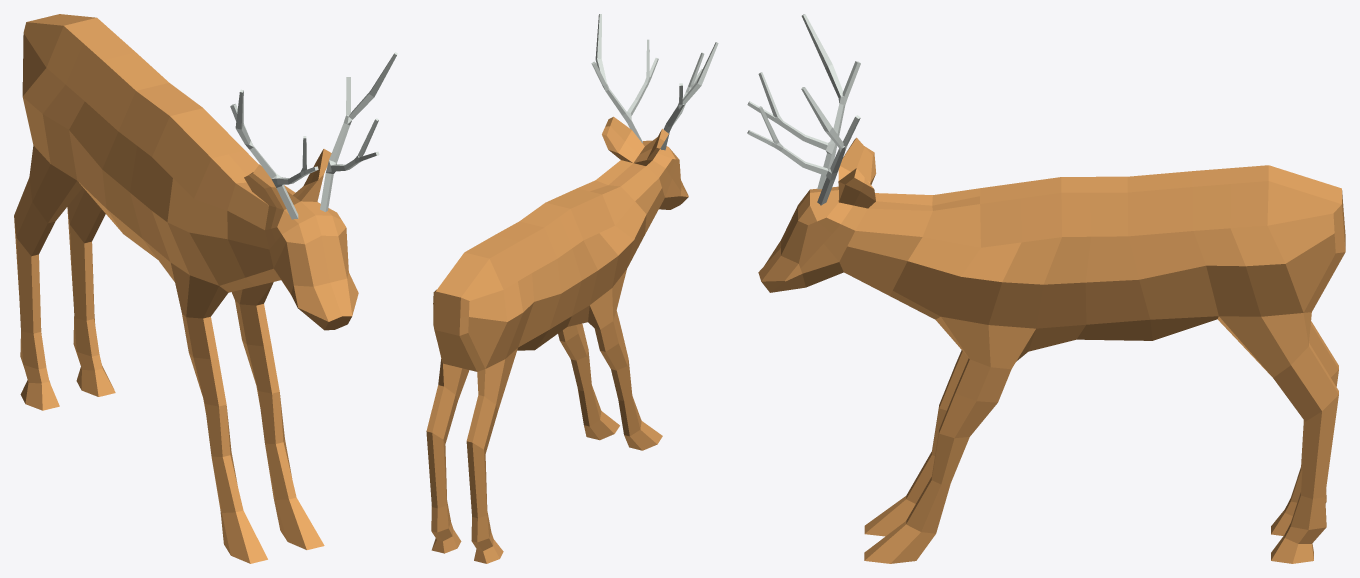
Rendered from deer.glb.
3 renders of one model, left to right at view 1: azimuth 30°, elevation 25°; view 2: azimuth 150°, elevation 25°; view 3: azimuth 270°, elevation 25°, orthographic. The views are drawn at different scales.
Parts seen in each view (by area): view 1: Plan, Plan.001; view 2: Plan, Plan.001; view 3: Plan, Plan.001.
Boxes of the visible parts, bbox=[...] form: Plan: bbox=[14, 14, 358, 563]; Plan.001: bbox=[230, 52, 397, 219]; Plan: bbox=[426, 116, 688, 563]; Plan.001: bbox=[591, 14, 718, 150]; Plan: bbox=[758, 137, 1345, 563]; Plan.001: bbox=[747, 14, 860, 205].
Bounding box in the file's own units: 0.994 × 3.05 × 3.35.
